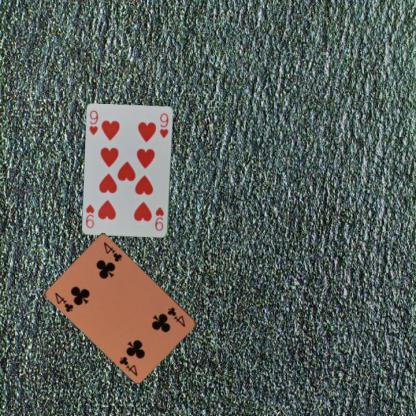4c: (164, 305, 187, 328), (53, 290, 75, 313)
9h: (87, 108, 99, 136), (153, 205, 165, 232)
